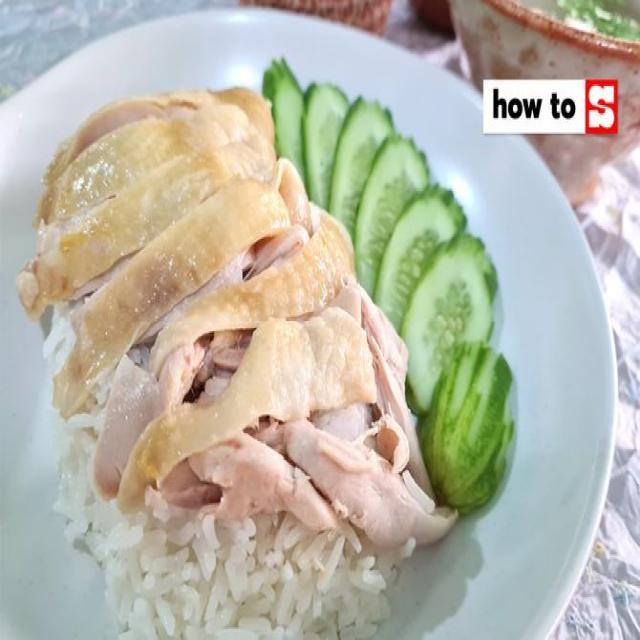Carbohydrate: (41, 159, 437, 640)
Kaow-Mankai: (16, 55, 546, 640)
Protein: (19, 87, 457, 549)
Vegetable: (267, 52, 516, 514)
